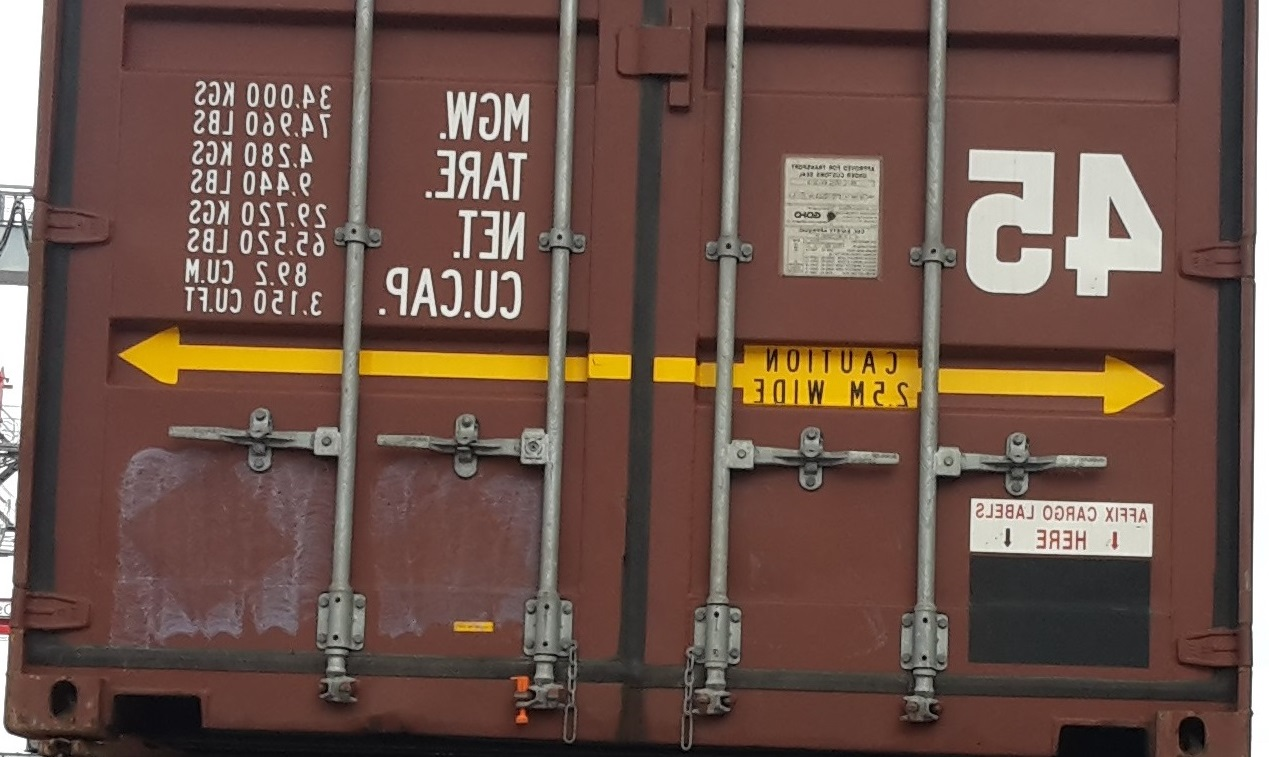container_door: (8, 8, 1258, 735)
